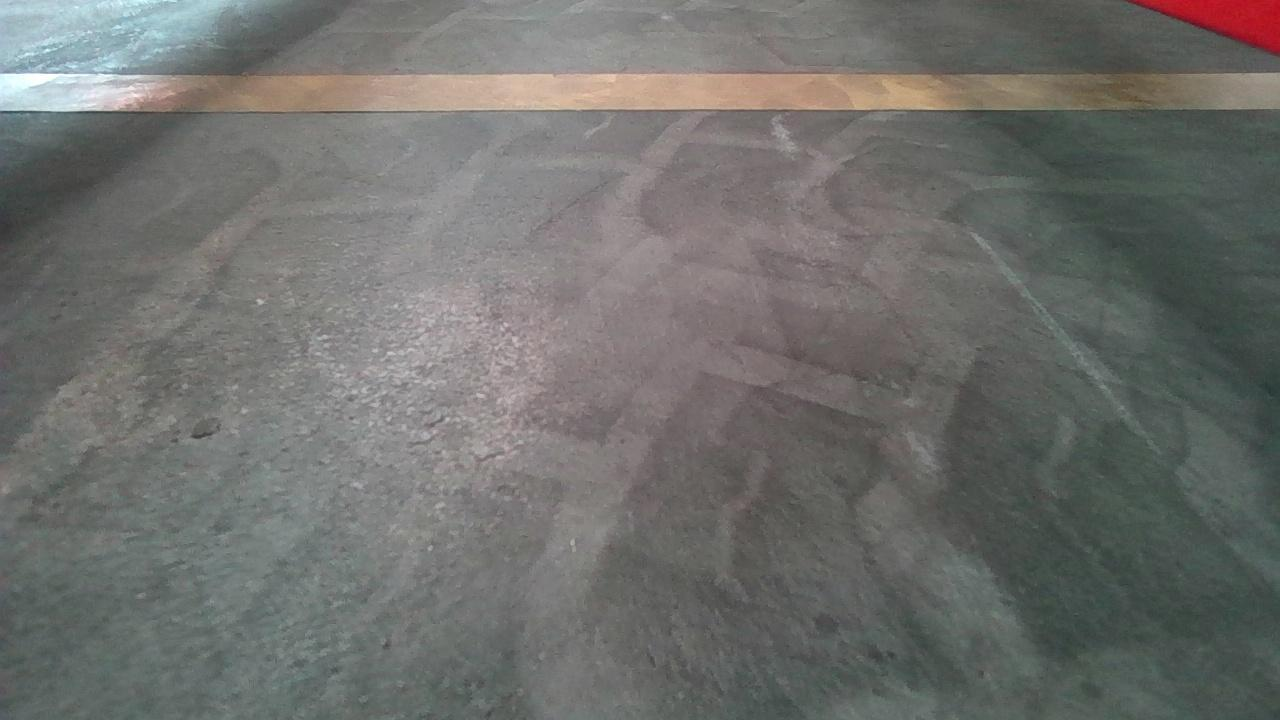yellow_line: (2, 71, 1271, 114)
